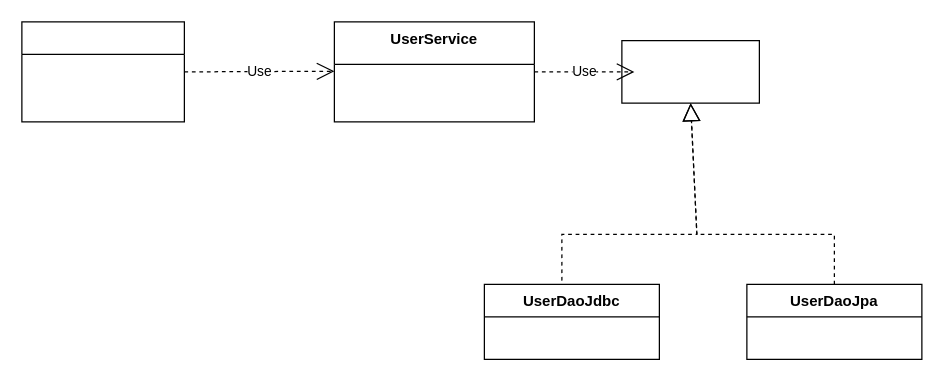
Image size: 944x381. Some labels were removed from this diagram. Here are the shapes that lost their labels. From the top down, the box of each, then its label:
(21, 21, 184, 122): UserServiceTest
(621, 39, 759, 103): «interface» UserDao
